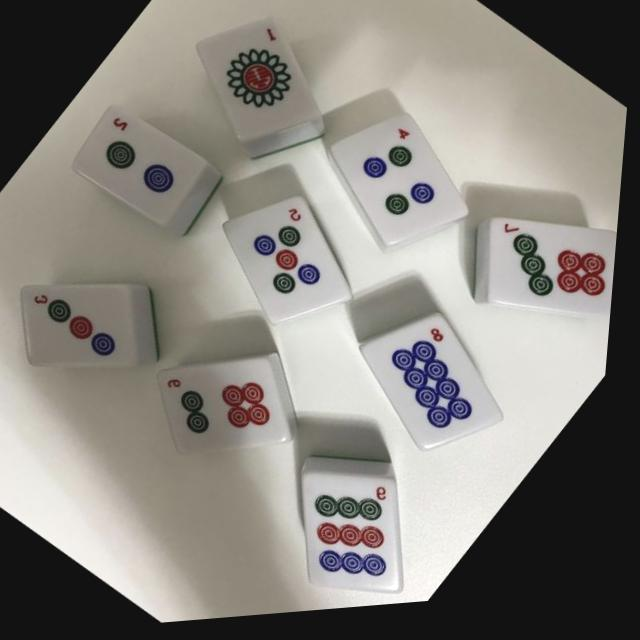sd1: (193, 21, 324, 147)
sd2: (70, 104, 211, 229)
sd3: (24, 286, 142, 367)
sd4: (328, 118, 475, 254)
sd5: (223, 200, 360, 331)
sd6: (162, 362, 300, 458)
sd7: (491, 226, 622, 330)
sd8: (364, 320, 513, 459)
sd9: (309, 477, 411, 600)
